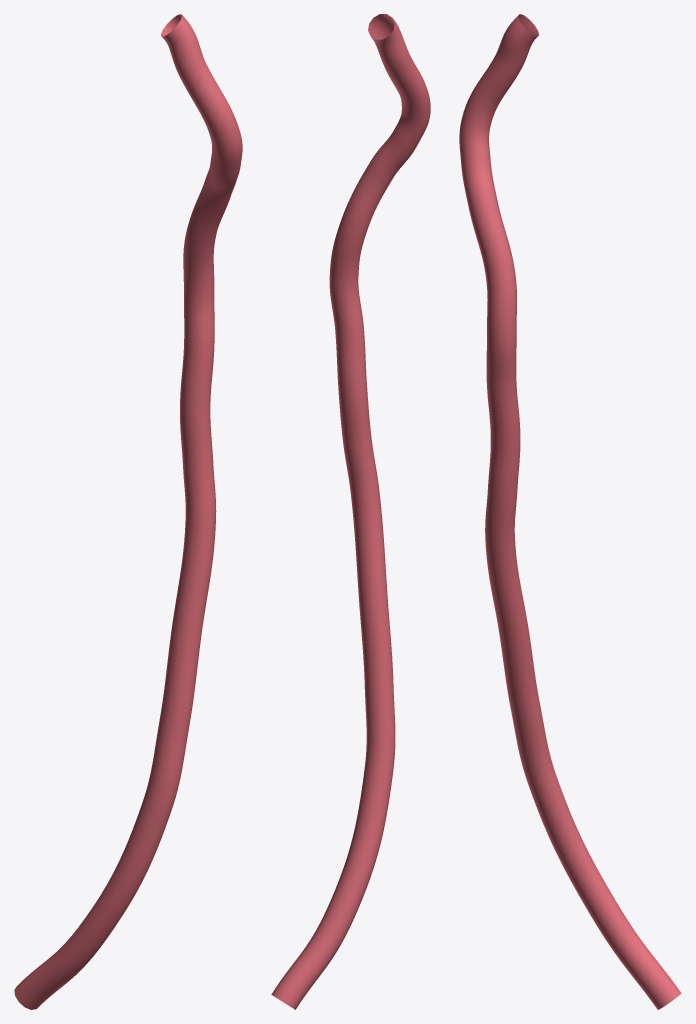
3 views of the same model, side by side, from view 1: azimuth 90°, elevation 25°; view 2: azimuth 150°, elevation 25°; view 3: azimuth 270°, elevation 25° (orthographic). The views are drawn at different scales.
Visible parts, largest first — view 1: ZA_6fd64f7cd4279006; view 2: ZA_6fd64f7cd4279006; view 3: ZA_6fd64f7cd4279006.
Boxes of the visible parts, x1,y1,x2,y2 form: ZA_6fd64f7cd4279006: (14, 14, 242, 1009); ZA_6fd64f7cd4279006: (271, 14, 430, 1009); ZA_6fd64f7cd4279006: (459, 14, 681, 1009).
Bounding box in the file's own units: 0.032 × 0.3384 × 0.0696.
